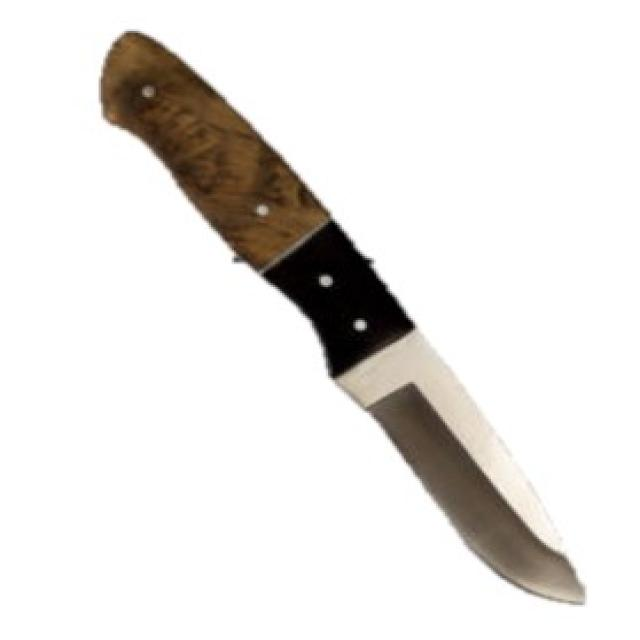knife: (79, 24, 602, 625)
